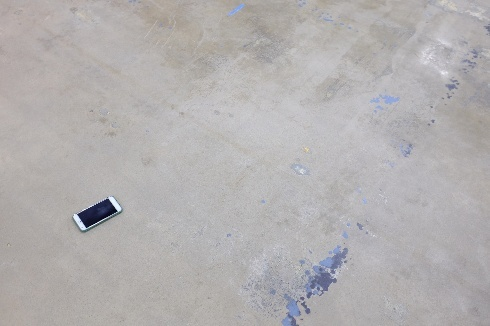phone: (74, 196, 122, 228)
